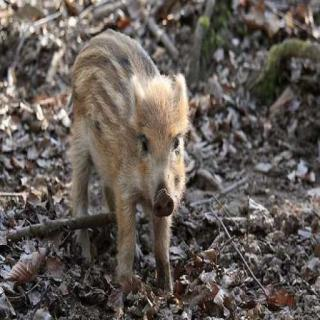Pig: (54, 22, 195, 292)
